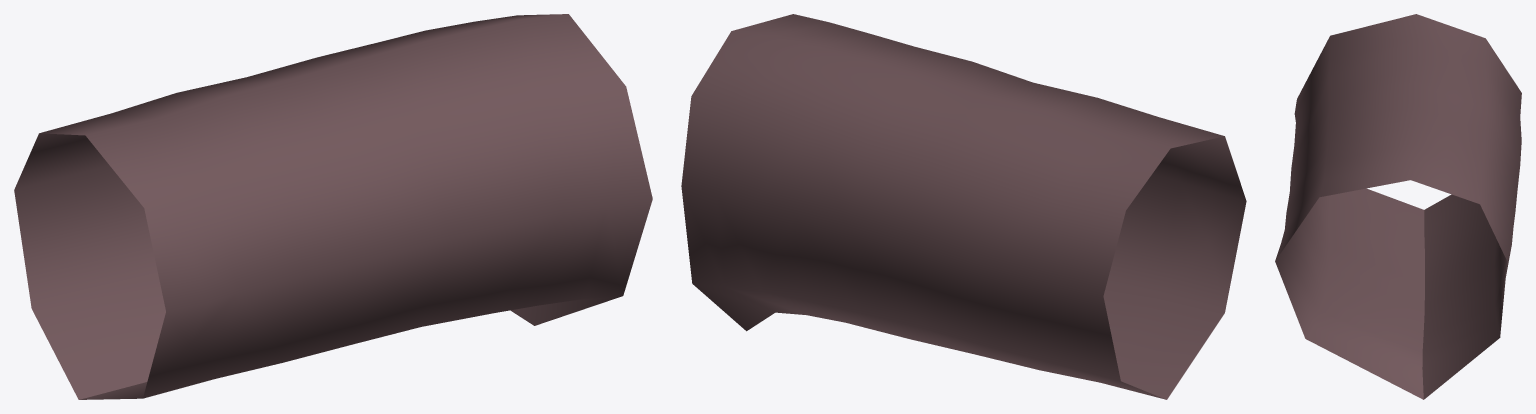
File: bIzqOak.obj
3 renders of one model, left to right at view 1: azimuth 30°, elevation 25°; view 2: azimuth 150°, elevation 25°; view 3: azimuth 270°, elevation 25°, orthographic. The views are drawn at different scales.
Visible parts, largest first — view 1: LArm, LArmEX, LForeArm, BrazoIzq_body.001, LShoulder; view 2: LArm, LArmEX, LForeArm, BrazoIzq_body.001, LShoulder; view 3: LArm, LArmEX, BrazoIzq_body.001, LForeArm, LShoulder.
Part boxes in pixels (x1,y1,x2,y2): LArm: (14,57,449,398); LArmEX: (318,19,606,326); LForeArm: (14,113,189,399); BrazoIzq_body.001: (476,14,652,325); LShoulder: (585,204,623,298); LArm: (846,61,1246,382); LArmEX: (716,22,971,338); LForeArm: (1038,132,1246,399); BrazoIzq_body.001: (681,14,828,331); LShoulder: (691,96,729,193); LArm: (1290,14,1521,310); LArmEX: (1281,106,1517,368); BrazoIzq_body.001: (1275,160,1511,399); LForeArm: (1297,14,1521,234); LShoulder: (1282,187,1511,338).
Bounding box in the file's own units: 22.1 × 13.97 × 13.41.
